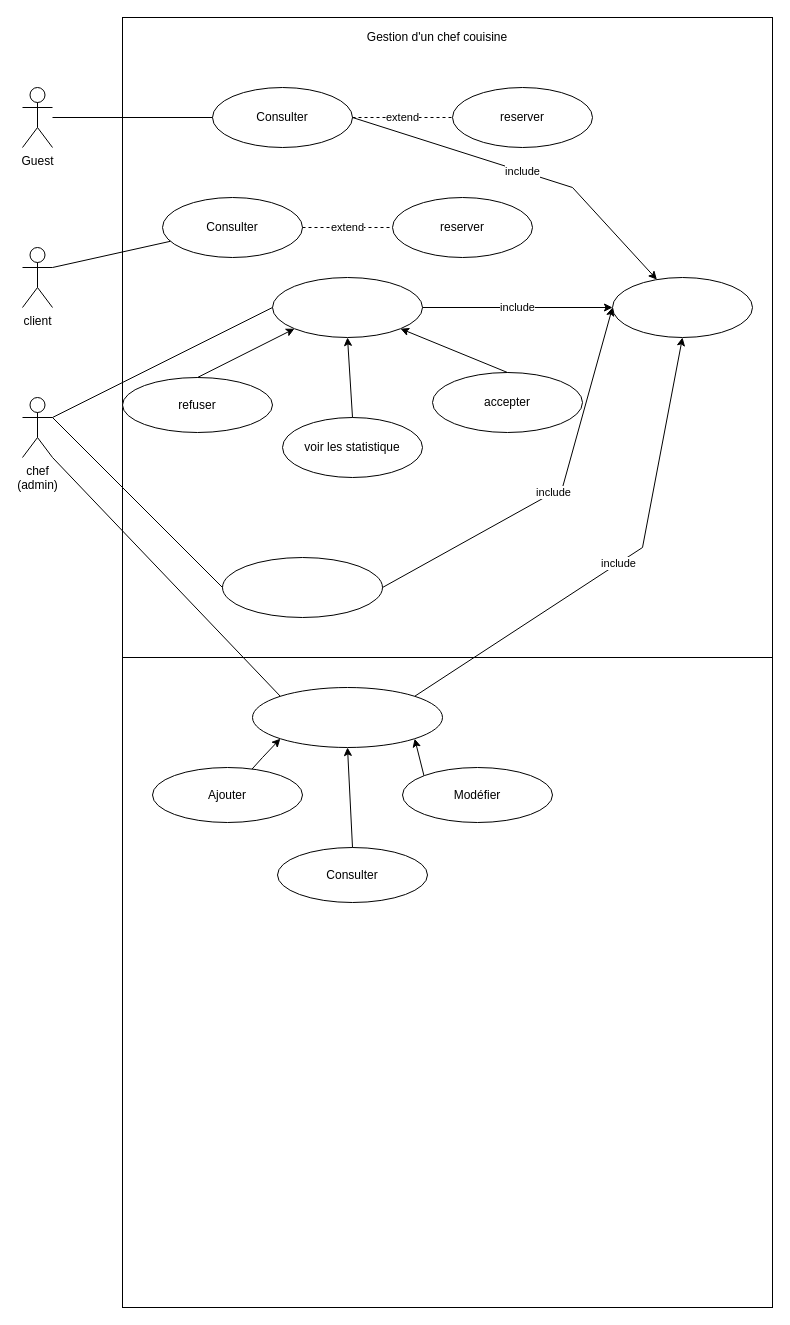
The diagram is 790 pixels wide and 1325 high, and some of its shapes have lost their labels. The shapes that lost their labels are listed below. From the top down, each one's centre as x and y in pixels, then its label:
At point 347,307: "Gérie les reservation des clients".
At point 682,307: "Autentification".
At point 302,587: "Gérie le profile".
At point 347,717: "gérie les Menu".
